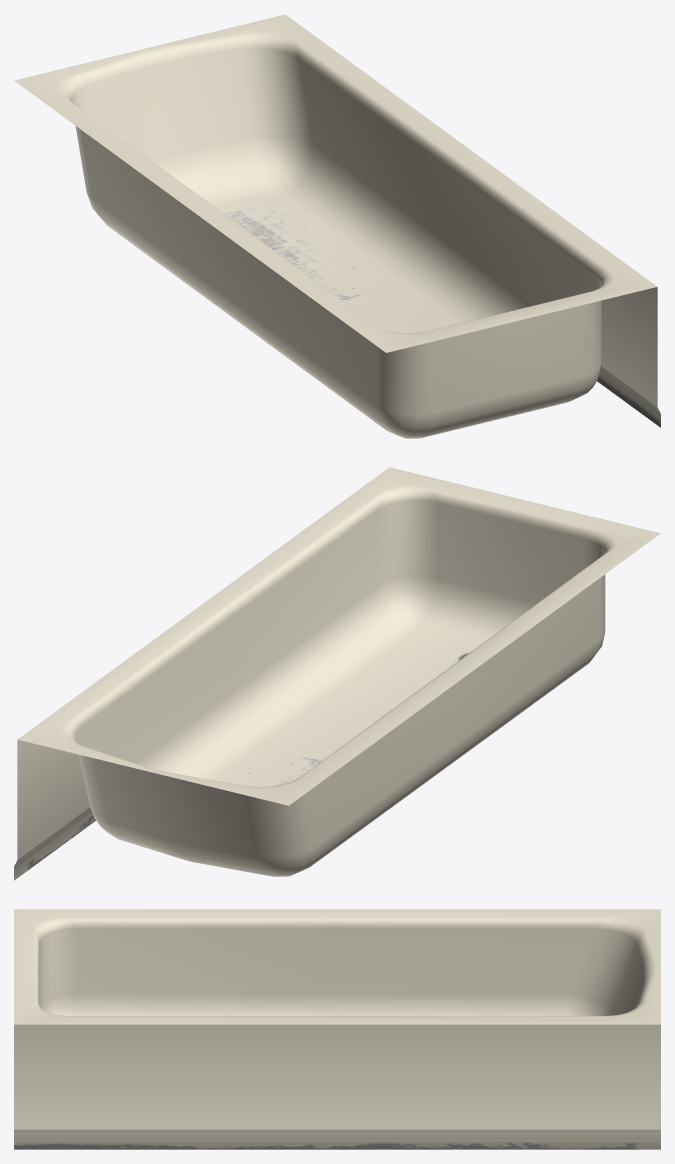
Rendered from Bathtub.fbx.
3 renders of one model, top to bottom at view 1: azimuth 30°, elevation 25°; view 2: azimuth 150°, elevation 25°; view 3: azimuth 270°, elevation 25°, orthographic. The views are drawn at different scales.
Visible parts, largest first — view 1: Cube; view 2: Cube; view 3: Cube.
Part boxes in pixels (x1=…): Cube: x1=14, y1=14, x2=660, y2=438; Cube: x1=14, y1=467, x2=660, y2=880; Cube: x1=14, y1=909, x2=660, y2=1149.
Bounding box in the file's own units: 202 × 100 × 475.
